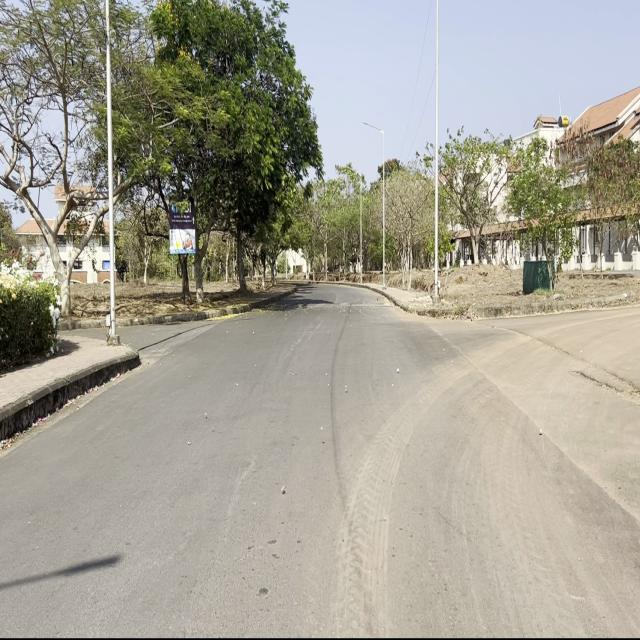Road: (5, 280, 635, 632)
